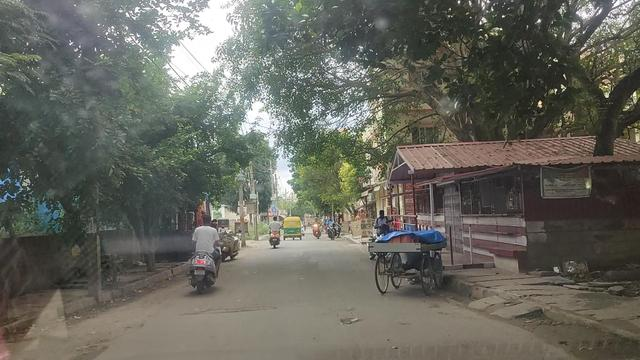LMV: (195, 215, 220, 288), (268, 216, 283, 247)
RoadDamages: (191, 300, 281, 321)
